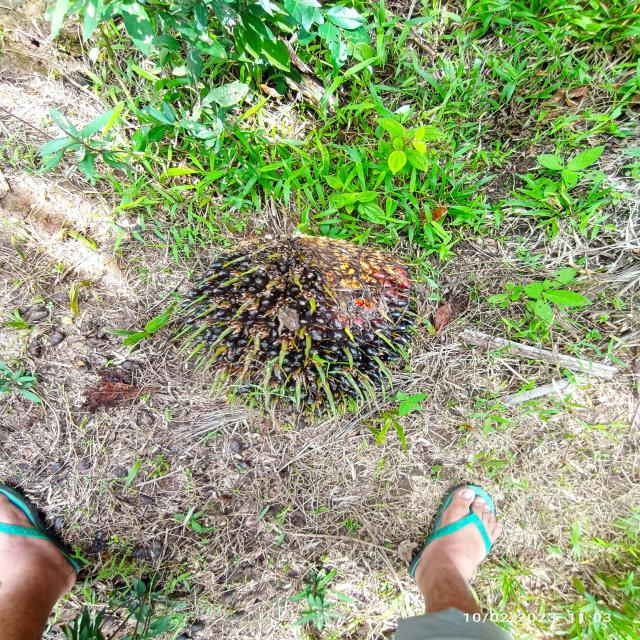fraksi 00: (166, 219, 441, 442)
